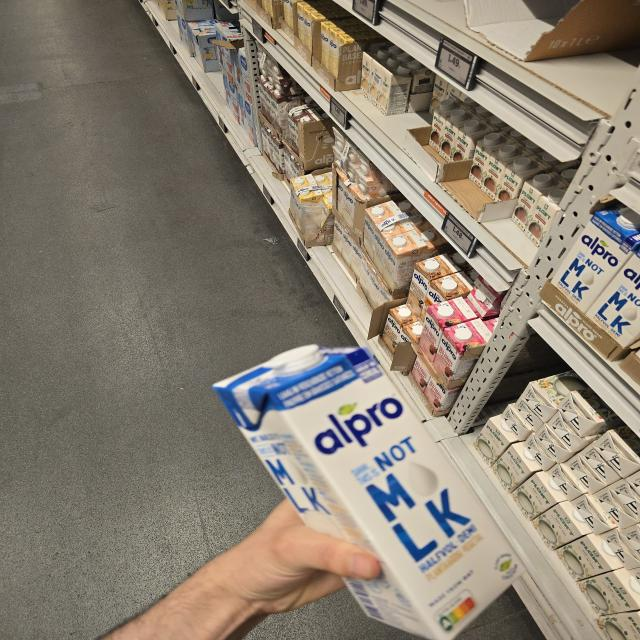Milk: (213, 345, 519, 640), (550, 203, 640, 314)
